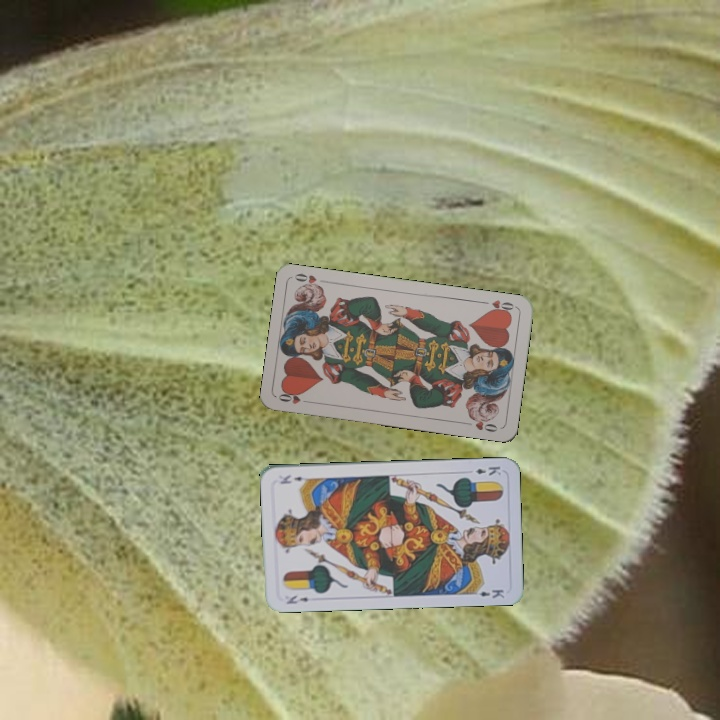EK: (463, 462, 504, 478), (283, 591, 319, 606)
HO: (477, 296, 518, 316), (274, 388, 315, 407)
